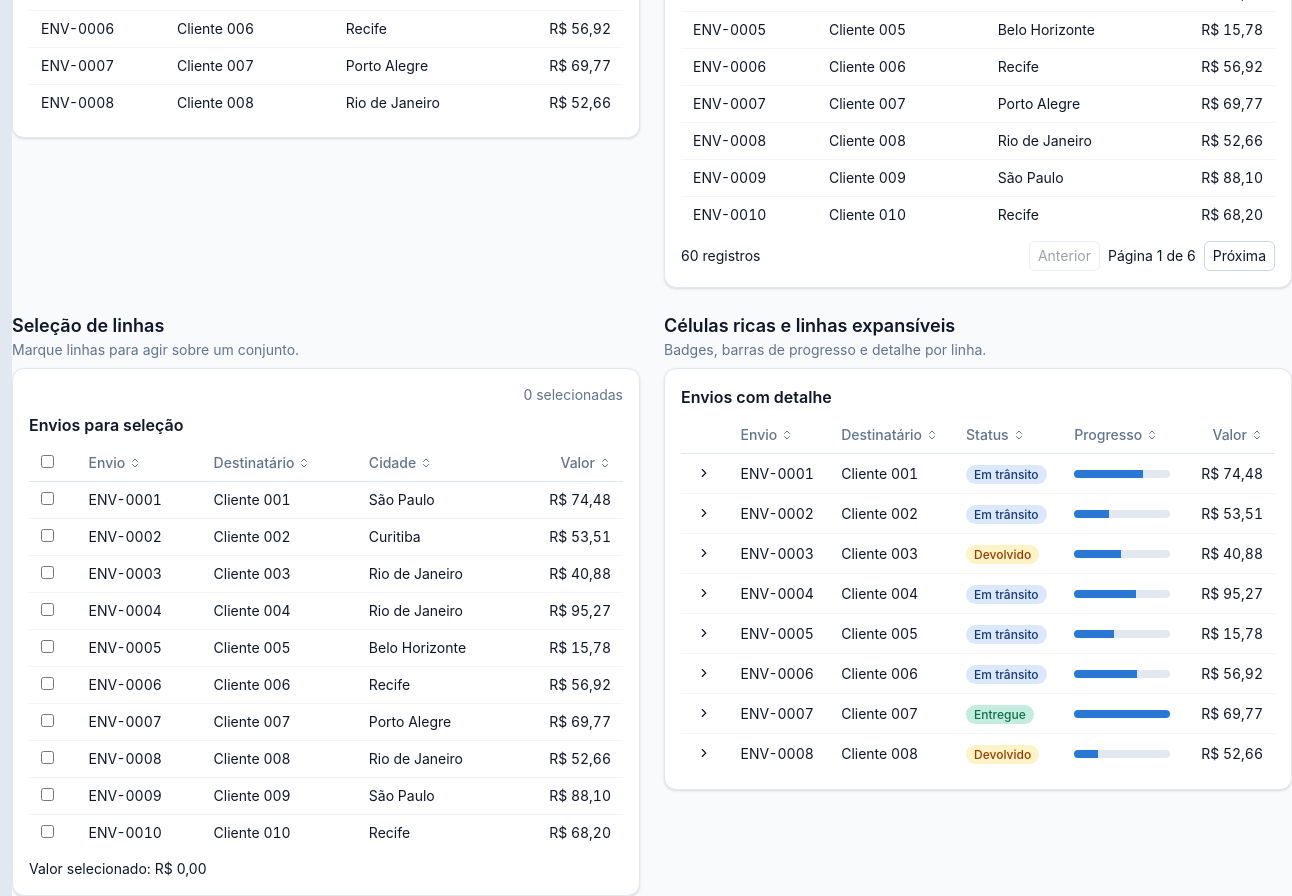
TablesPage › expands a row to show its events
(page scrolled)
What coordinates should you click on to do the following:
click the 1st button named "Expandir detalhes"
I would click on:
 (704, 473)
Its box is [693,462,715,484].
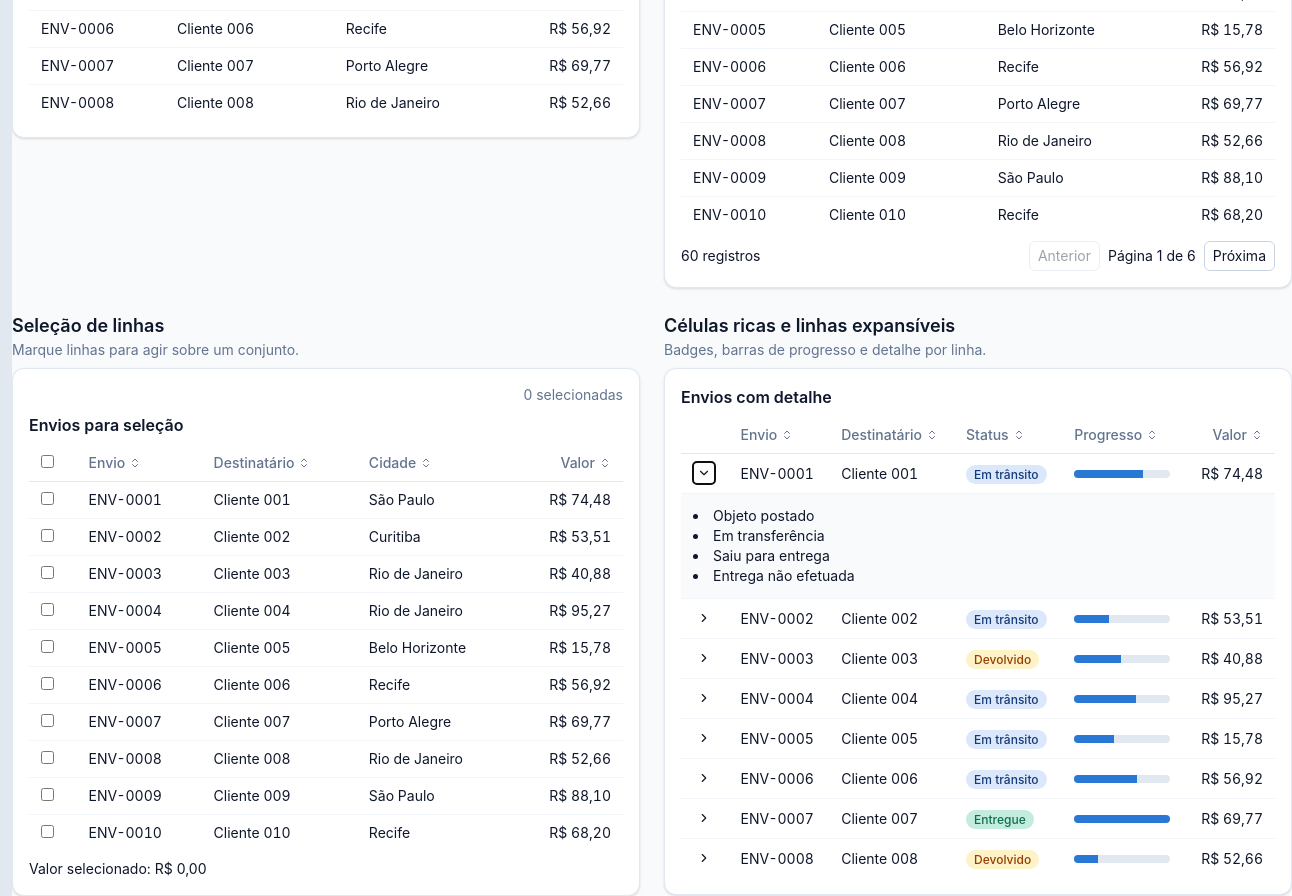
Now the list item "Objeto postado" is shown, box [713,507,814,524]
